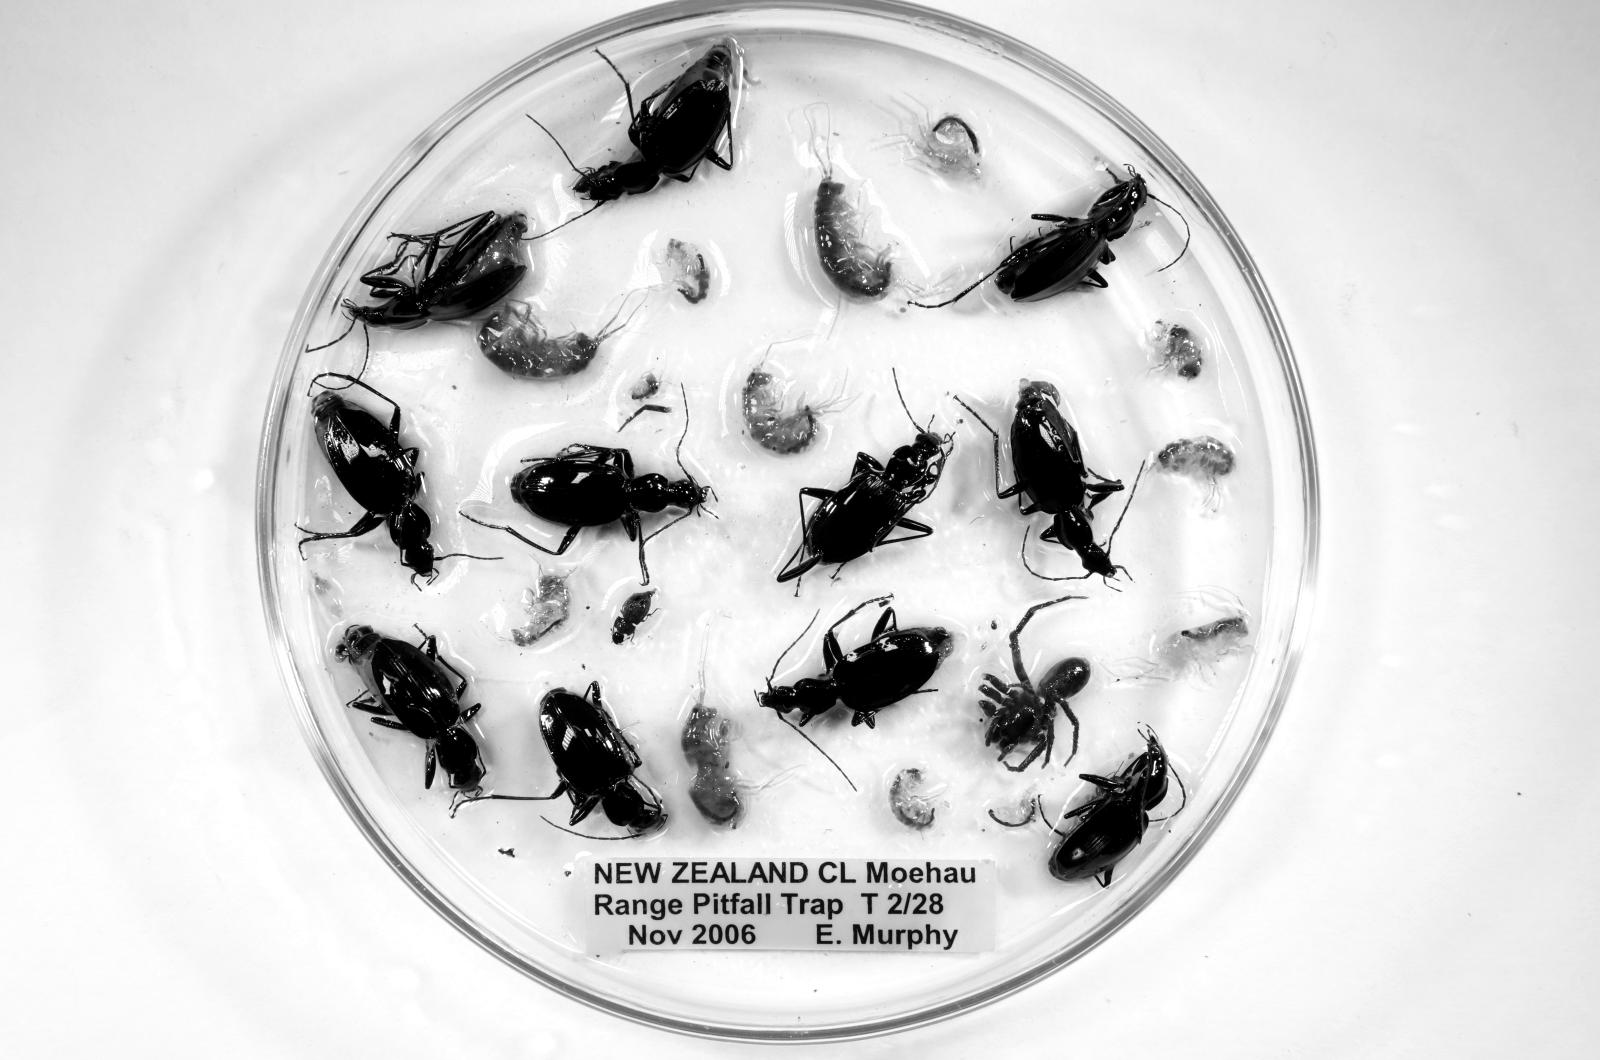amphipoda: (477, 301, 612, 379), (815, 177, 892, 300), (681, 701, 743, 827), (742, 366, 820, 455), (1153, 616, 1249, 679), (908, 114, 981, 183), (511, 573, 571, 646), (1156, 436, 1235, 484), (664, 238, 711, 304), (889, 768, 937, 831), (988, 783, 1042, 828)
araneae: (978, 597, 1090, 772)
carabidae: (574, 37, 745, 202), (511, 444, 709, 585), (777, 430, 953, 582), (306, 388, 436, 581), (335, 626, 485, 791), (998, 382, 1124, 577), (759, 608, 953, 728), (342, 211, 527, 329), (539, 681, 667, 838), (995, 174, 1150, 301), (1048, 727, 1170, 886)
coleoptera: (611, 589, 656, 644)
